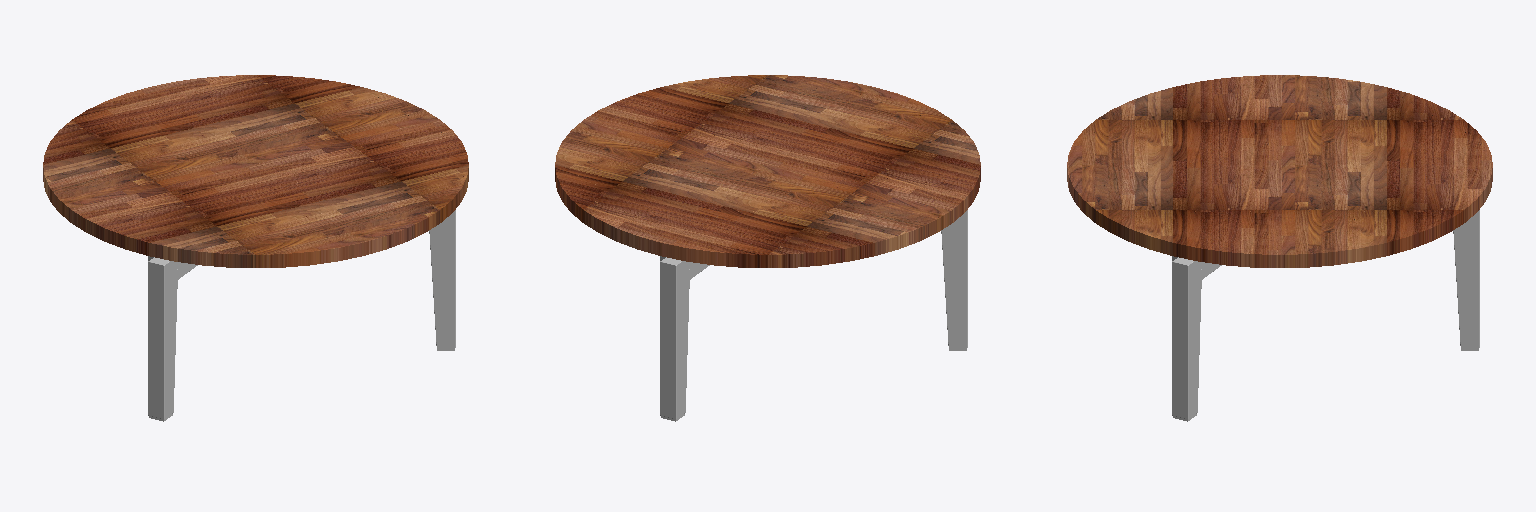
3 renders of one model, left to right at view 1: azimuth 30°, elevation 25°; view 2: azimuth 150°, elevation 25°; view 3: azimuth 270°, elevation 25°, orthographic.
Parts seen in each view (by area): view 1: top_Plane, legs_Mesh.021; view 2: top_Plane, legs_Mesh.021; view 3: top_Plane, legs_Mesh.021.
Boxes of the visible parts, x1=… form: top_Plane: x1=43, y1=75, x2=468, y2=267; legs_Mesh.021: x1=148, y1=210, x2=455, y2=418; top_Plane: x1=555, y1=75, x2=980, y2=267; legs_Mesh.021: x1=660, y1=210, x2=967, y2=418; top_Plane: x1=1067, y1=75, x2=1492, y2=267; legs_Mesh.021: x1=1172, y1=210, x2=1479, y2=418.
Bounding box in the file's own units: 1.58 × 0.745 × 1.58.
Materials: 3 (1 with a texture image).